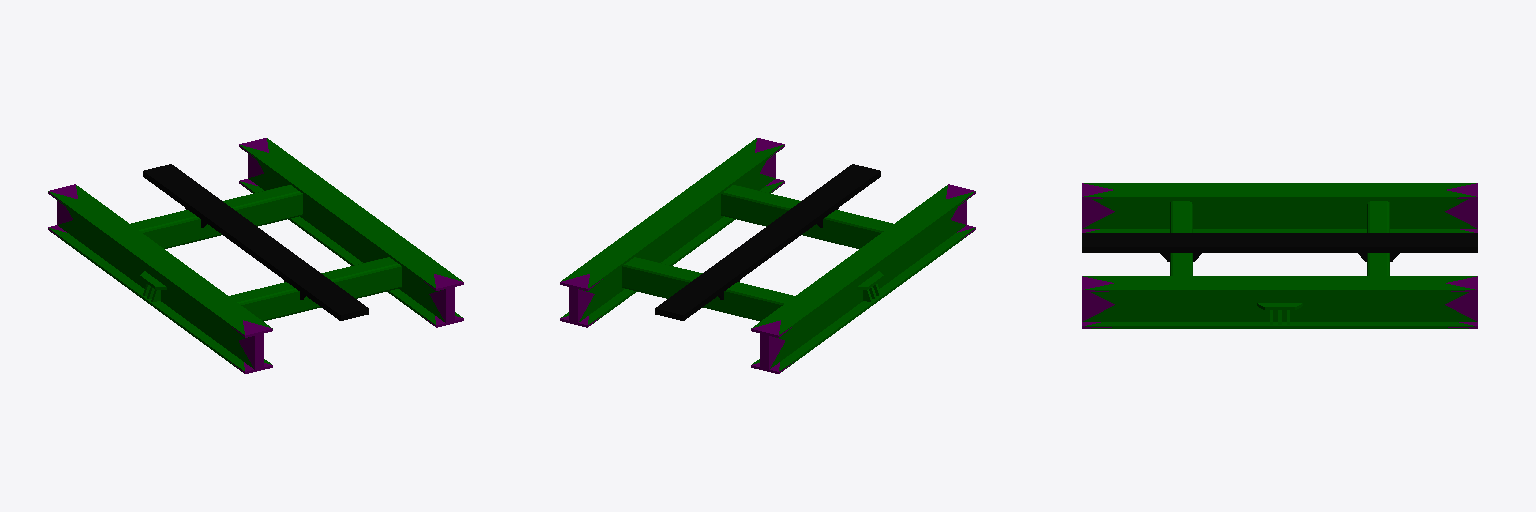
Rendered from disko.obj.
The picture shows the model from 3 angles: view 1: azimuth 30°, elevation 25°; view 2: azimuth 150°, elevation 25°; view 3: azimuth 270°, elevation 25°; orthographic projection.
Bounding box in the file's own units: 2.11 × 0.3575 × 3.3.